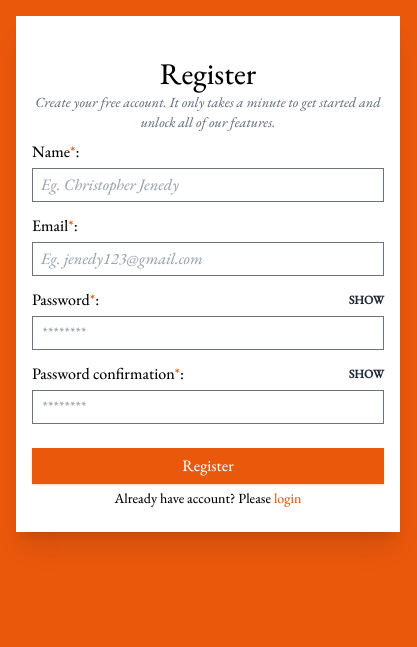
Scenario: RegisterPage › should display validation errors when form is submitted with empty fields
Click the button "Register" at (208, 466), box x1=32 y1=448 x2=384 y2=484
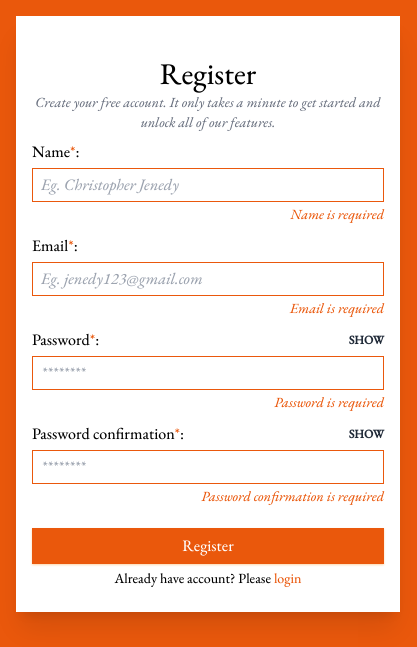
Result: the text "Name is required" is shown at x1=290 y1=205 x2=384 y2=223
Result: the text "Email is required" is shown at x1=290 y1=299 x2=384 y2=317
Result: the text "Password is required" is shown at x1=274 y1=393 x2=384 y2=411
